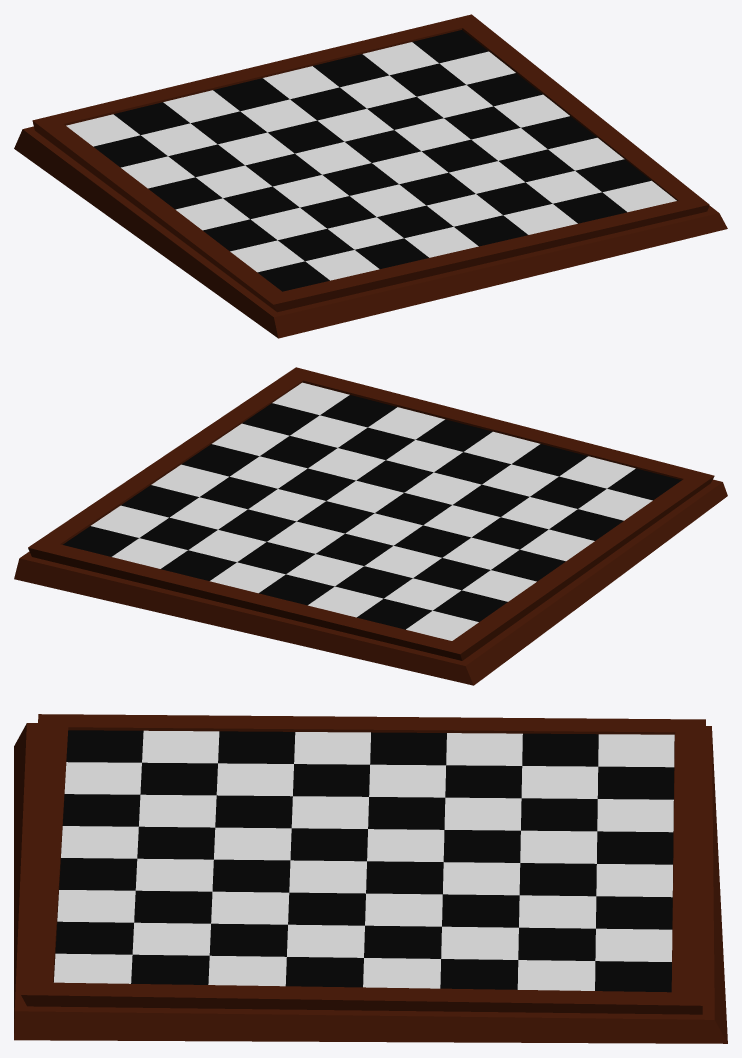
Rendered from Chess_Board.FBX.
3 renders of one model, top to bottom at view 1: azimuth 30°, elevation 25°; view 2: azimuth 150°, elevation 25°; view 3: azimuth 270°, elevation 25°, orthographic. The views are drawn at different scales.
Parts seen in each view (by area): view 1: Echequier; view 2: Echequier; view 3: Echequier.
Boxes of the visible parts, x1=… form: Echequier: x1=14, y1=14, x2=727, y2=338; Echequier: x1=14, y1=367, x2=727, y2=685; Echequier: x1=14, y1=714, x2=727, y2=1043.
Bounding box in the file's own units: 1671 × 90.93 × 1681.
